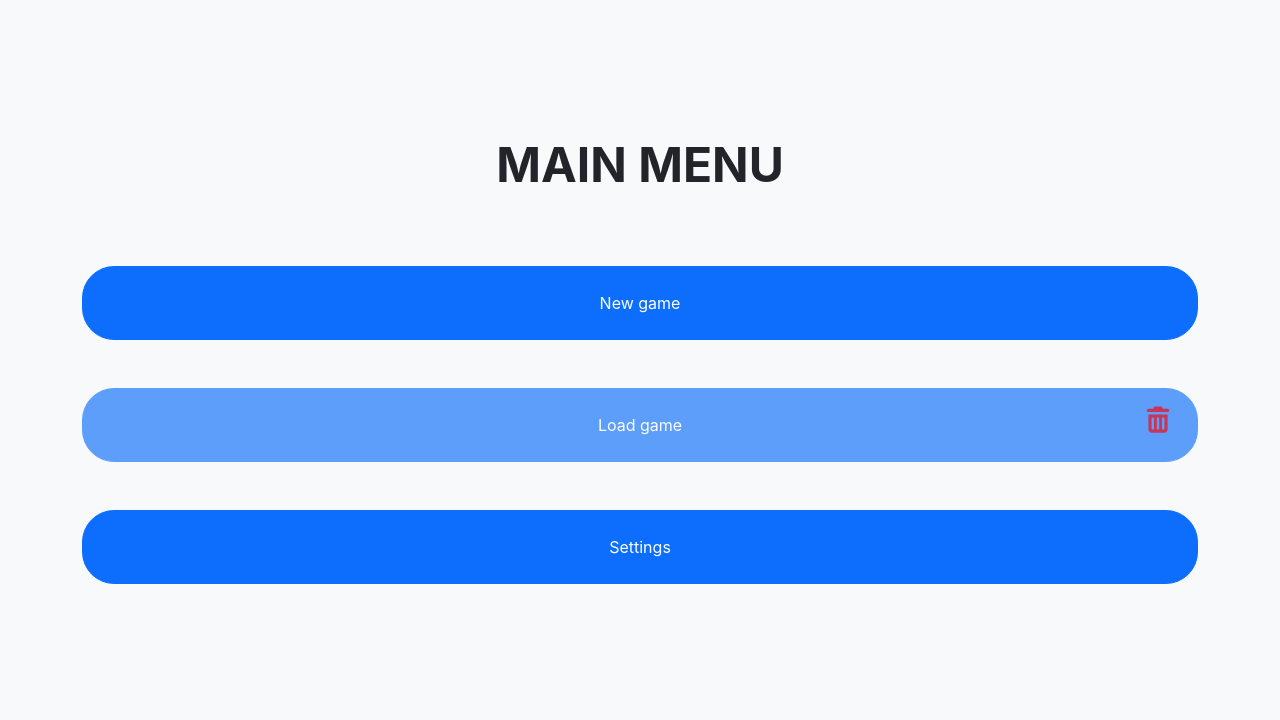
Buttons within the main menu › The button to navigate to the settings page › When clicked › Navigates to the settings page and closes the main menu
// Click the button to navigate to the settings page
Click the button with test id "settingsButton" at (640, 547), box [82,510,1198,584]
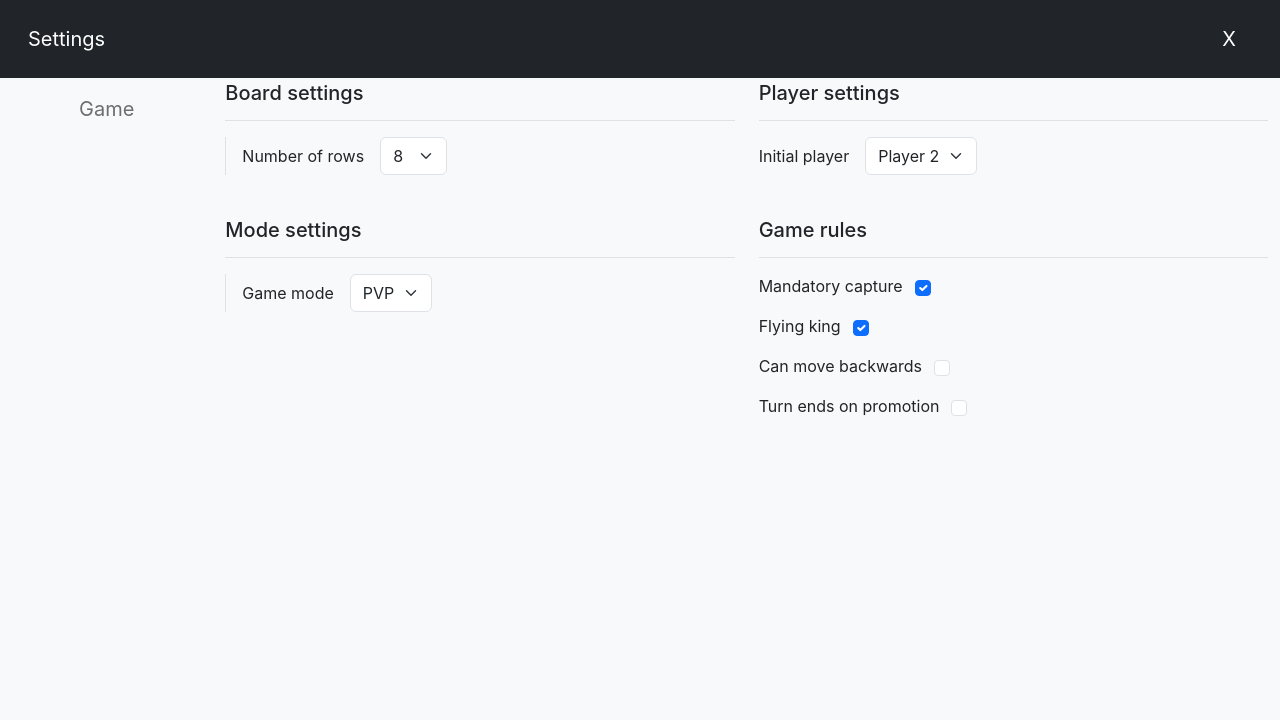
Now the element with test id "settings" is shown
Now the element with test id "mainMenu" is gone
